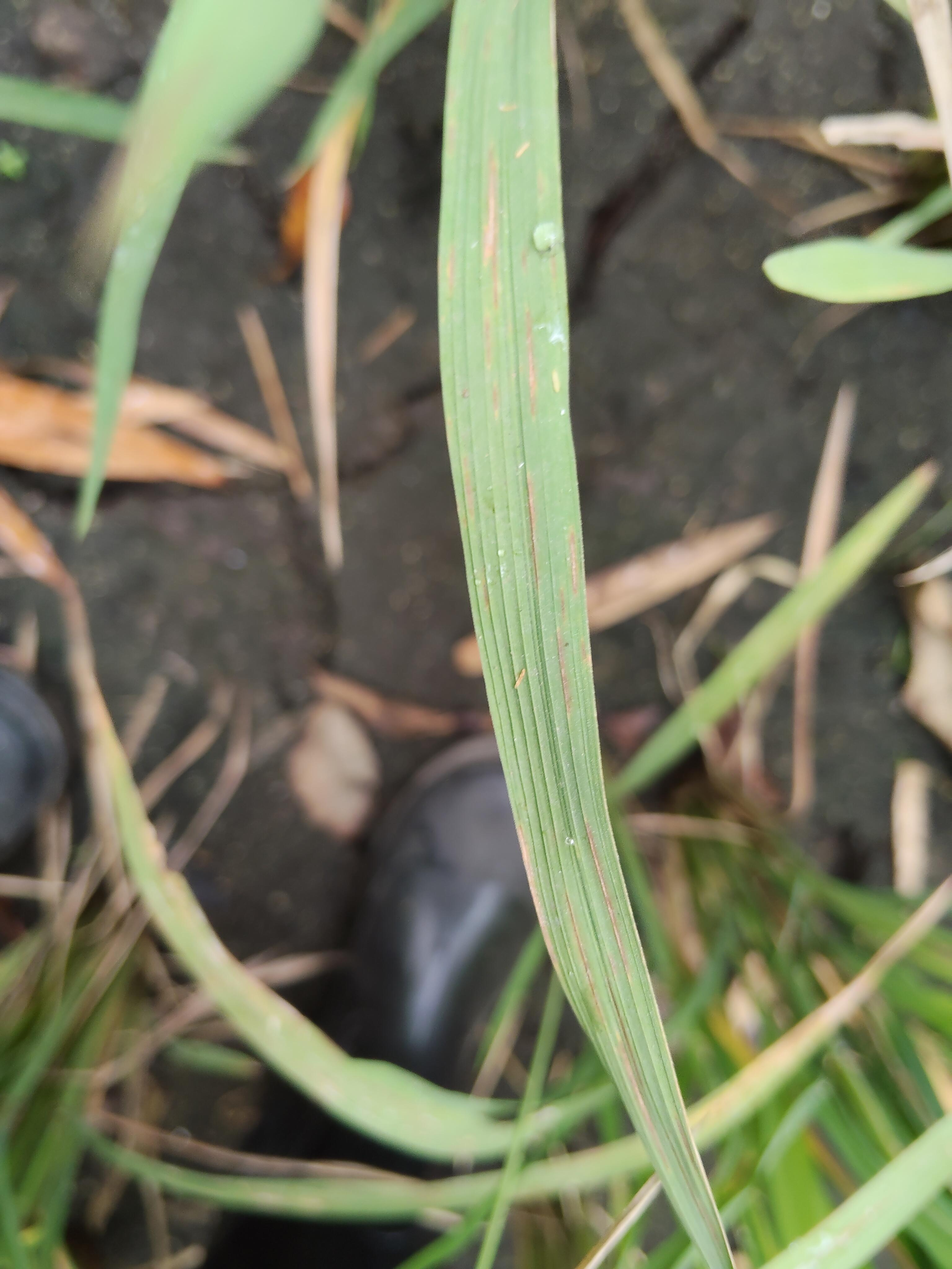NBS: (582, 816, 631, 979), (616, 1038, 672, 1176), (516, 823, 561, 974), (563, 894, 609, 1030), (479, 148, 498, 309), (554, 622, 573, 719), (522, 304, 536, 418), (524, 476, 539, 577), (461, 456, 475, 520), (483, 314, 494, 372), (568, 532, 576, 593), (447, 245, 454, 300), (577, 639, 591, 665), (481, 573, 489, 612), (490, 382, 498, 419)
